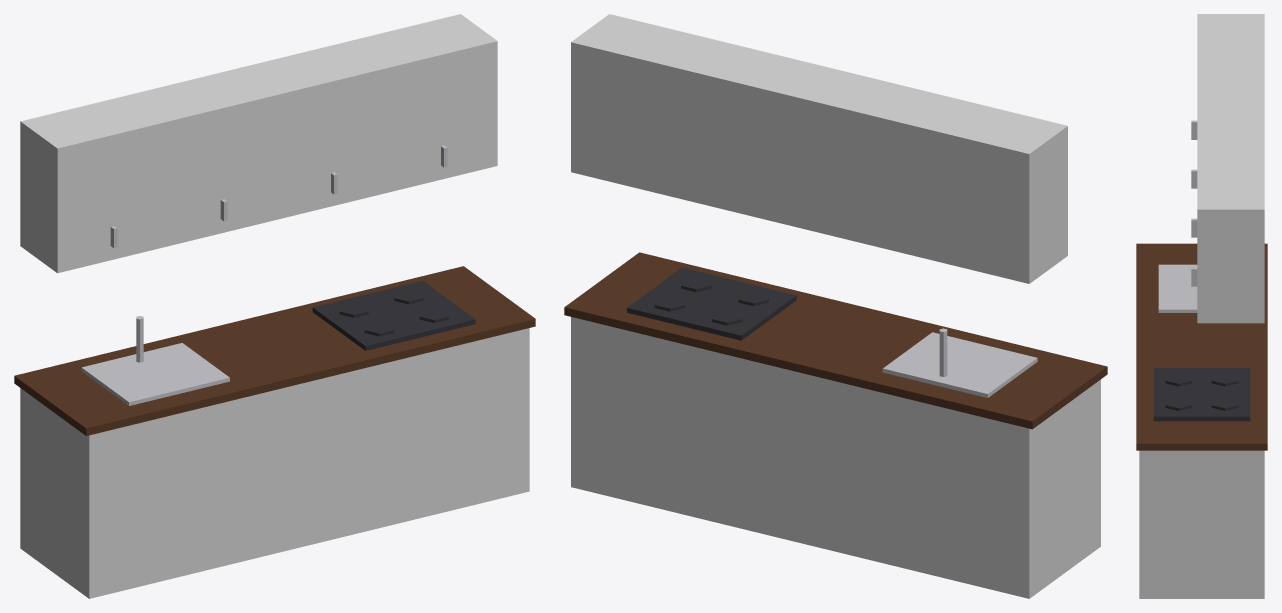
File: interior_flat_kitchen.glb
The picture shows the model from 3 angles, left to right: view 1: azimuth 30°, elevation 25°; view 2: azimuth 150°, elevation 25°; view 3: azimuth 270°, elevation 25°; orthographic projection. The views are drawn at different scales.
Visible parts, largest first — view 1: interior_flat_kitchen; view 2: interior_flat_kitchen; view 3: interior_flat_kitchen.
Part boxes in pixels (box(x1,y1,x2,y2)): interior_flat_kitchen: box(14, 14, 535, 598); interior_flat_kitchen: box(564, 14, 1107, 598); interior_flat_kitchen: box(1136, 14, 1267, 598).
Size of the model in its own units: 2.45 by 2.22 by 0.68.
1 material, 1 textured.
